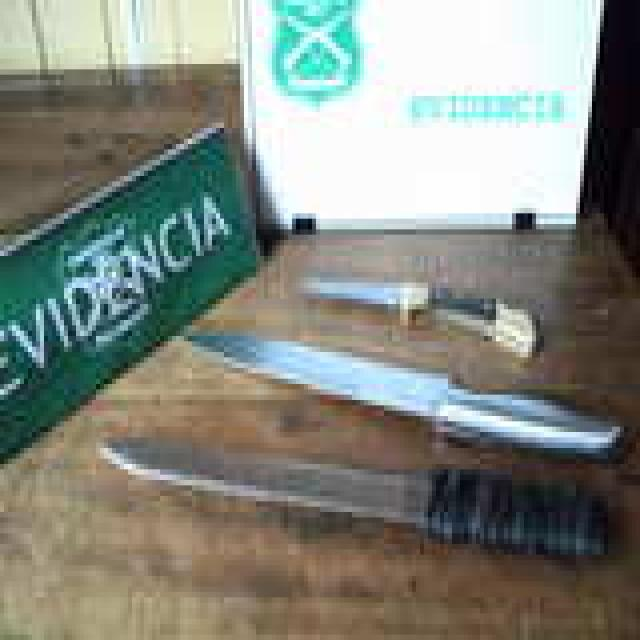Knife: (84, 422, 623, 575), (180, 321, 628, 471), (295, 250, 555, 354)
